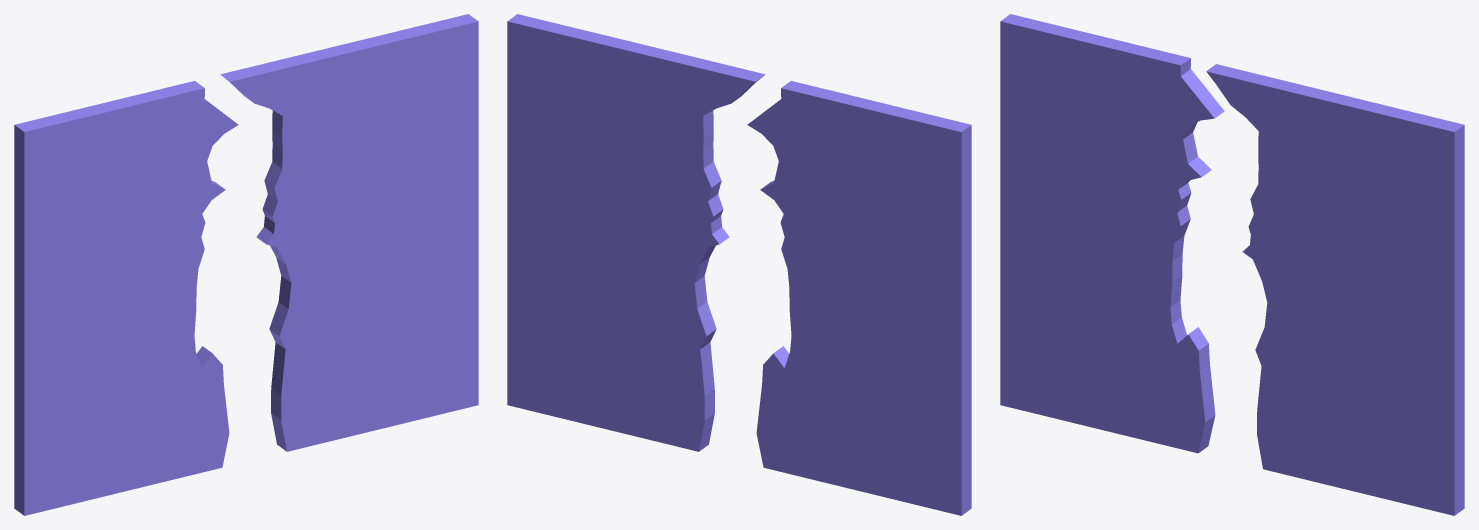
Rendered from SNUH_Wall2.fbx.
3 views of the same model, side by side, from view 1: azimuth 30°, elevation 25°; view 2: azimuth 150°, elevation 25°; view 3: azimuth 330°, elevation 25° (orthographic).
Parts seen in each view (by area): view 1: Wall.007; view 2: Wall.007; view 3: Wall.007.
Boxes of the visible parts, x1,y1,x2,y2 form: Wall.007: (14, 14, 478, 515); Wall.007: (507, 14, 971, 515); Wall.007: (1000, 14, 1464, 515).
Size of the model in its own units: 260 by 210 by 10.
